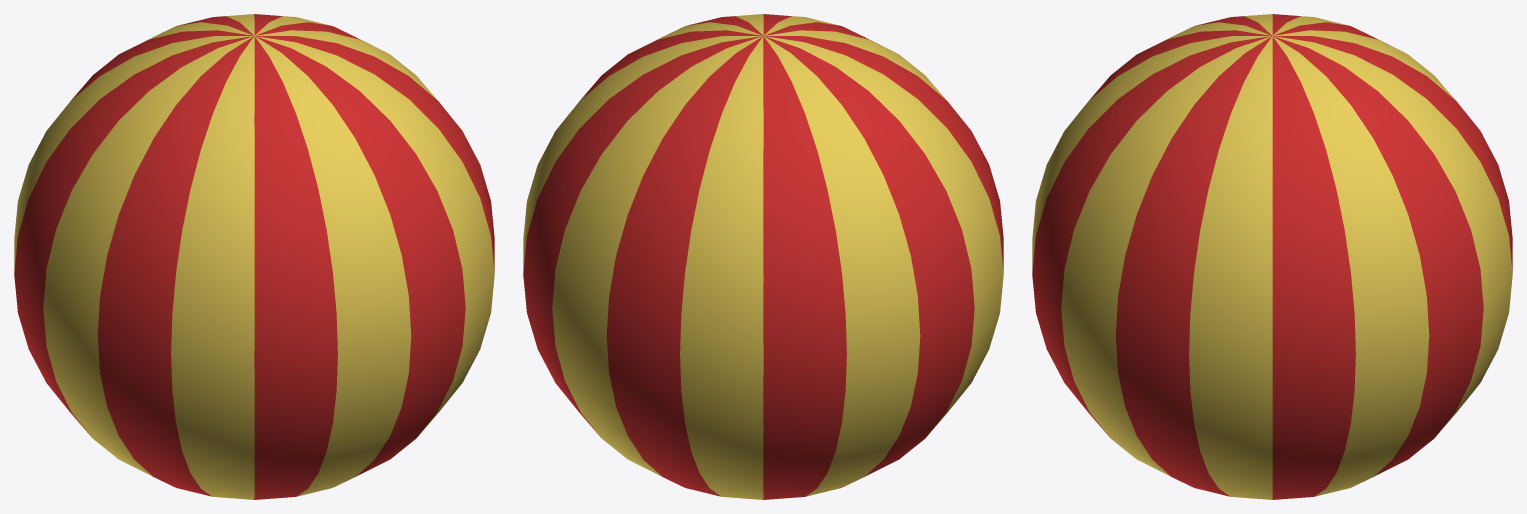
The model's file is lopta2.fbx.
3 renders of one model, left to right at view 1: azimuth 30°, elevation 25°; view 2: azimuth 150°, elevation 25°; view 3: azimuth 270°, elevation 25°, orthographic.
Visible parts, largest first — view 1: lopta.001; view 2: lopta.001; view 3: lopta.001.
Part boxes in pixels (x1,y1,x2,y2): lopta.001: (14, 14, 494, 499); lopta.001: (523, 14, 1003, 499); lopta.001: (1032, 14, 1512, 499).
Bounding box in the file's own units: 60.95 × 60.95 × 60.03.
